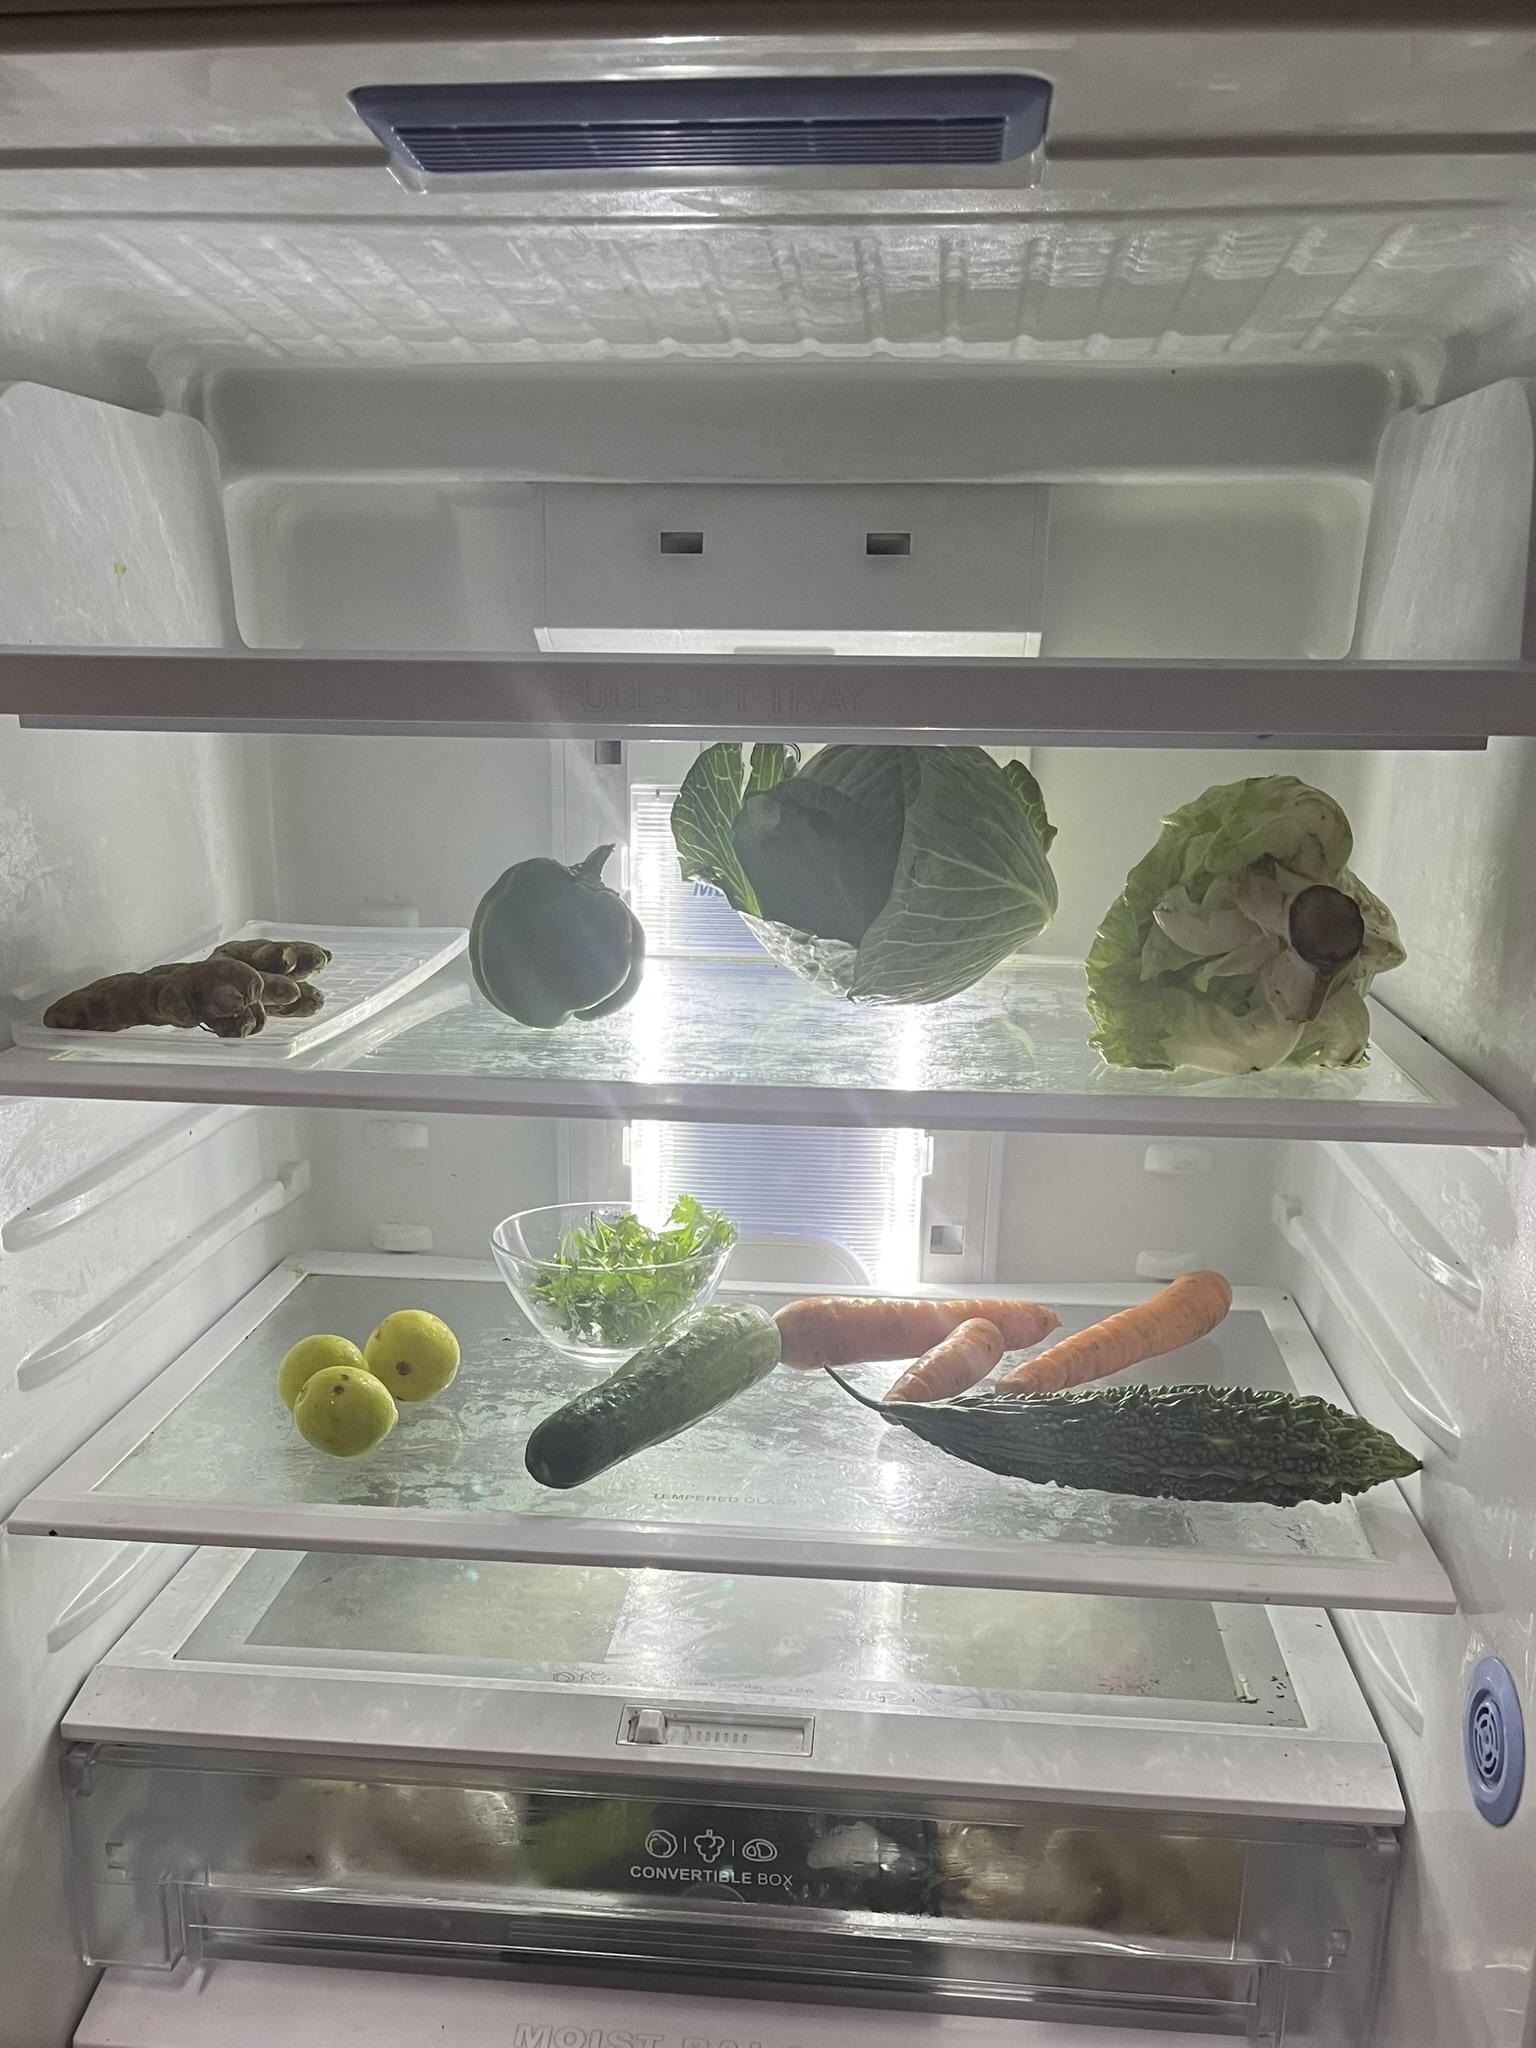bitter gaurd: (857, 1371, 1436, 1503)
cabbage: (663, 747, 1060, 1027)
capsicum: (470, 834, 644, 1027)
carrots: (916, 1277, 1257, 1397), (770, 1293, 1050, 1343)
coriander: (529, 1190, 723, 1343)
cucumber: (513, 1313, 779, 1493)
ginger: (50, 943, 331, 1037)
lemon: (273, 1303, 473, 1463)
lettuce: (1079, 784, 1404, 1090)
